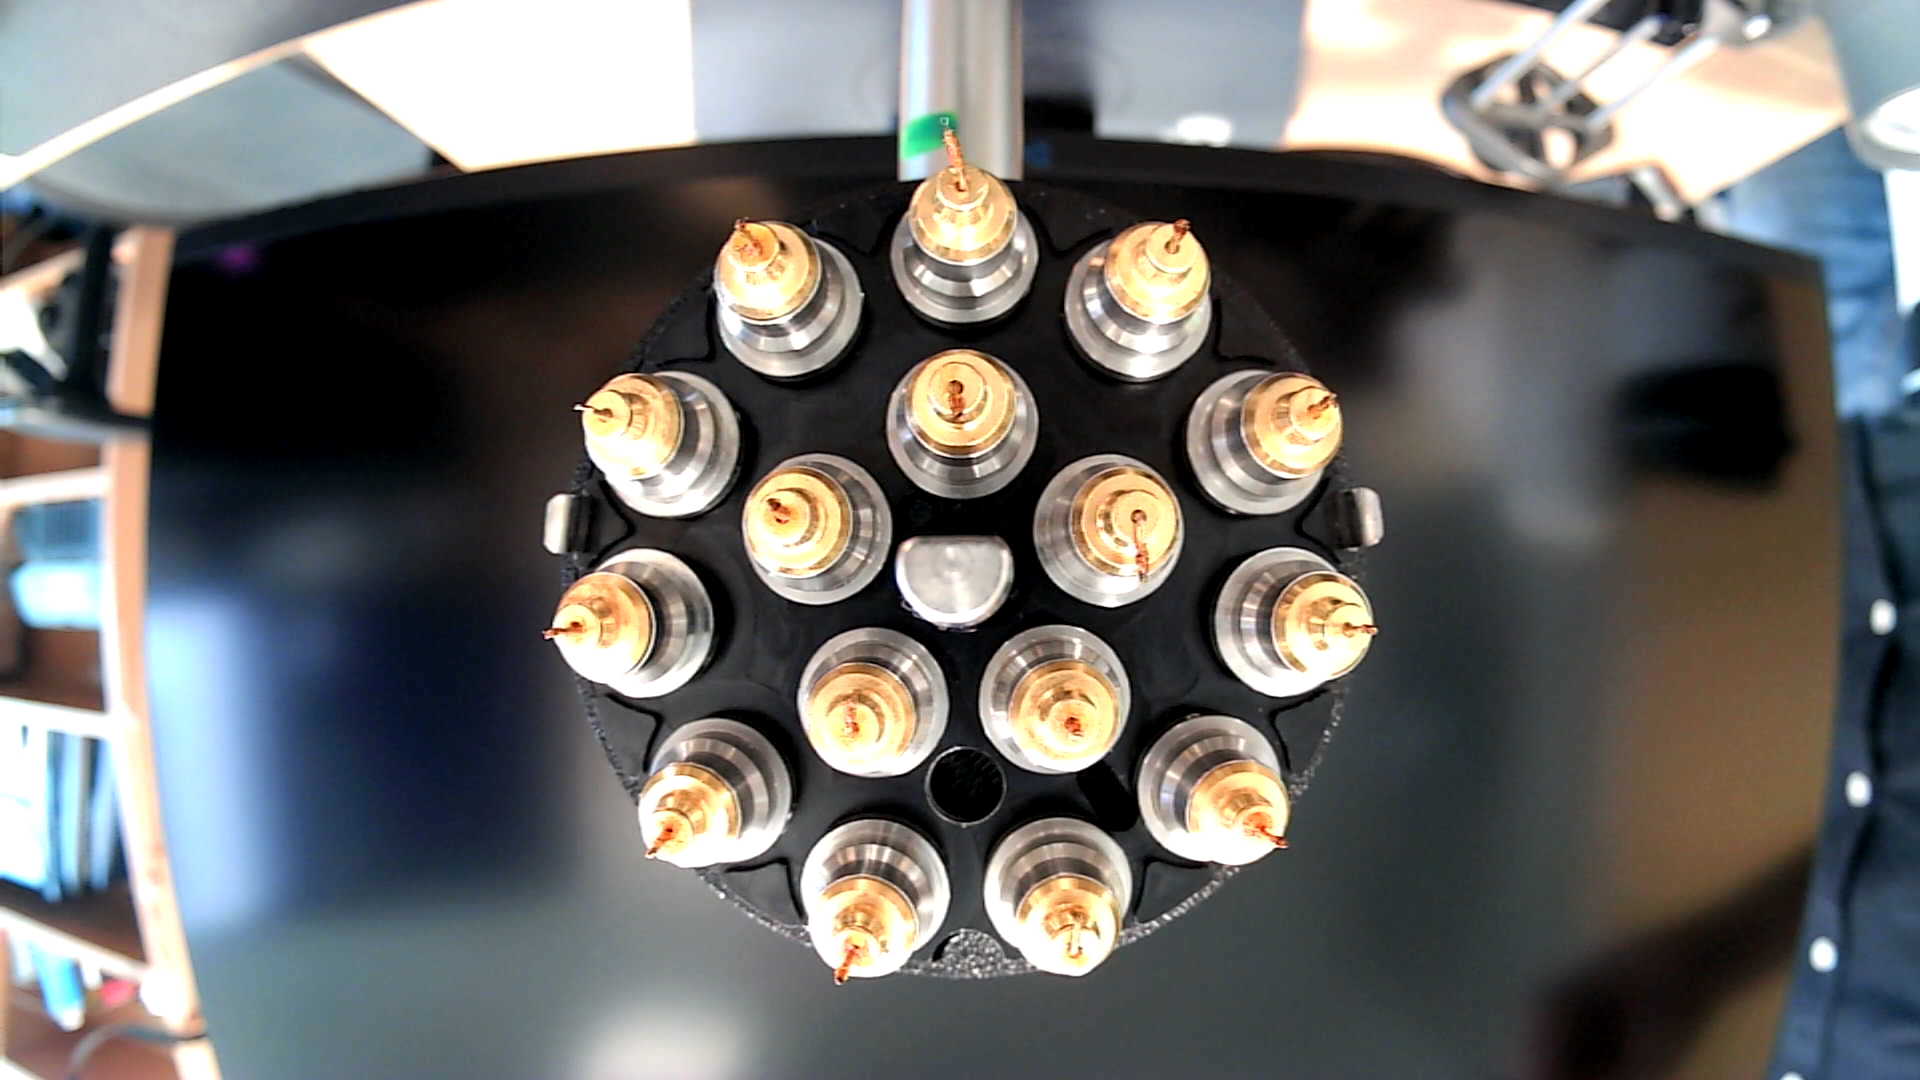bent: (887, 123, 1039, 328), (980, 814, 1138, 977), (882, 345, 1043, 504), (1029, 447, 1183, 611), (794, 625, 952, 782)
hole: (923, 745, 1006, 828)
pin: (535, 545, 720, 703), (796, 811, 953, 990), (1203, 543, 1374, 700), (568, 365, 742, 520), (709, 212, 862, 382), (1063, 208, 1215, 380), (1131, 709, 1294, 869), (636, 717, 791, 877), (978, 620, 1135, 775), (1180, 363, 1338, 517), (736, 454, 891, 609)
rod: (891, 527, 1015, 630)
